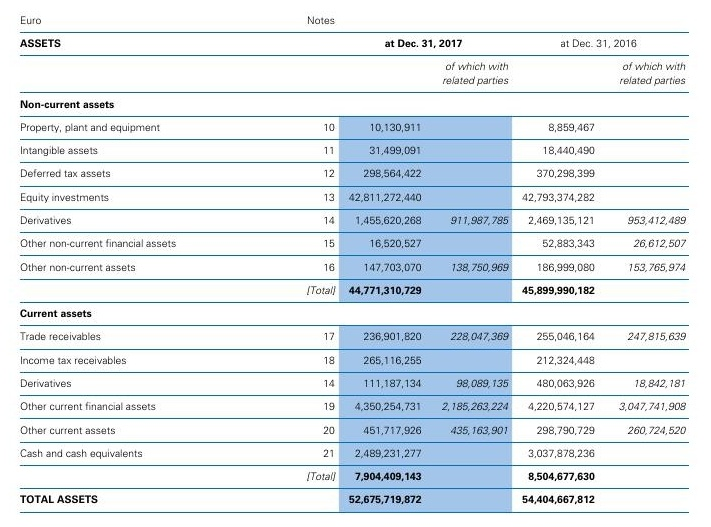table: (0, 0, 711, 527)
